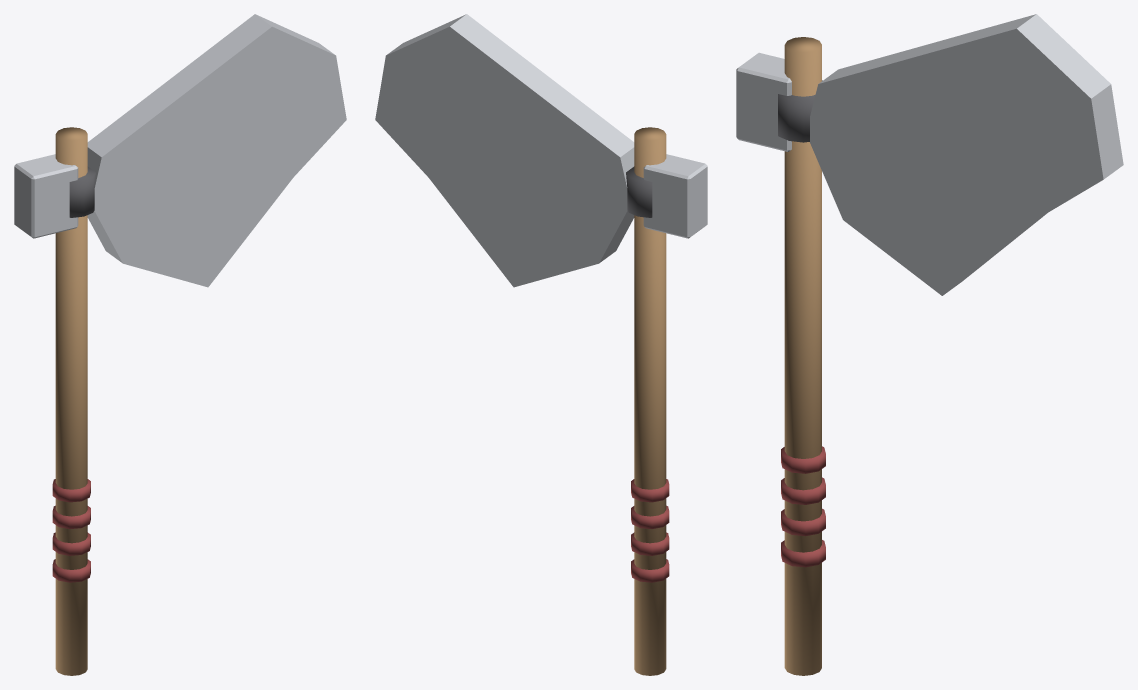
Rendered from Axe.glb.
3 views of the same model, side by side, from view 1: azimuth 30°, elevation 25°; view 2: azimuth 150°, elevation 25°; view 3: azimuth 330°, elevation 25° (orthographic). The views are drawn at different scales.
Parts seen in each view (by area): view 1: Bit, Haft, Poll, Collar, Wrap.002, Wrap, Wrap.001, Wrap.003; view 2: Bit, Haft, Poll, Collar, Wrap.002, Wrap, Wrap.001, Wrap.003; view 3: Bit, Haft, Poll, Collar, Wrap, Wrap.001, Wrap.002, Wrap.003.
Part boxes in pixels (bbox=[...]): Bit: bbox=[87, 14, 346, 287]; Haft: bbox=[55, 127, 87, 675]; Poll: bbox=[14, 154, 78, 238]; Collar: bbox=[69, 166, 95, 217]; Wrap.002: bbox=[52, 505, 90, 528]; Wrap: bbox=[52, 559, 90, 582]; Wrap.001: bbox=[52, 532, 90, 555]; Wrap.003: bbox=[52, 479, 90, 502]; Bit: bbox=[375, 14, 634, 287]; Haft: bbox=[634, 127, 666, 675]; Poll: bbox=[643, 154, 707, 238]; Collar: bbox=[626, 166, 652, 217]; Wrap.002: bbox=[631, 505, 669, 528]; Wrap: bbox=[631, 559, 669, 582]; Wrap.001: bbox=[631, 532, 669, 555]; Wrap.003: bbox=[631, 479, 669, 502]; Bit: bbox=[810, 14, 1123, 295]; Haft: bbox=[784, 37, 821, 675]; Poll: bbox=[736, 52, 791, 151]; Collar: bbox=[778, 80, 822, 142]; Wrap: bbox=[781, 540, 825, 567]; Wrap.001: bbox=[781, 508, 825, 536]; Wrap.002: bbox=[781, 477, 825, 504]; Wrap.003: bbox=[781, 446, 825, 473].
Size of the model in its own units: 1.48 by 2.7 by 0.2.
